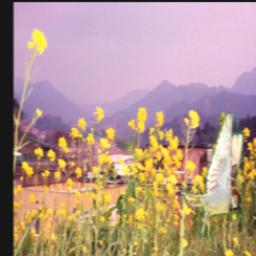Sparrow: (180, 113, 243, 237)
